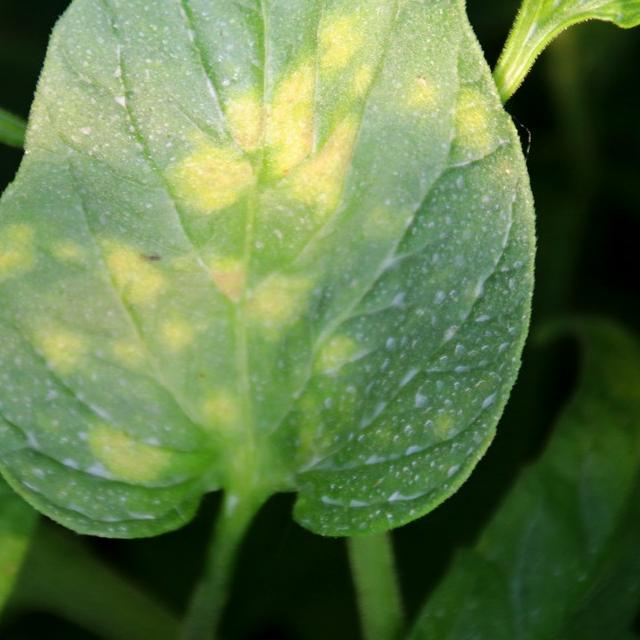Tomato mold leaf: (0, 0, 521, 572)
